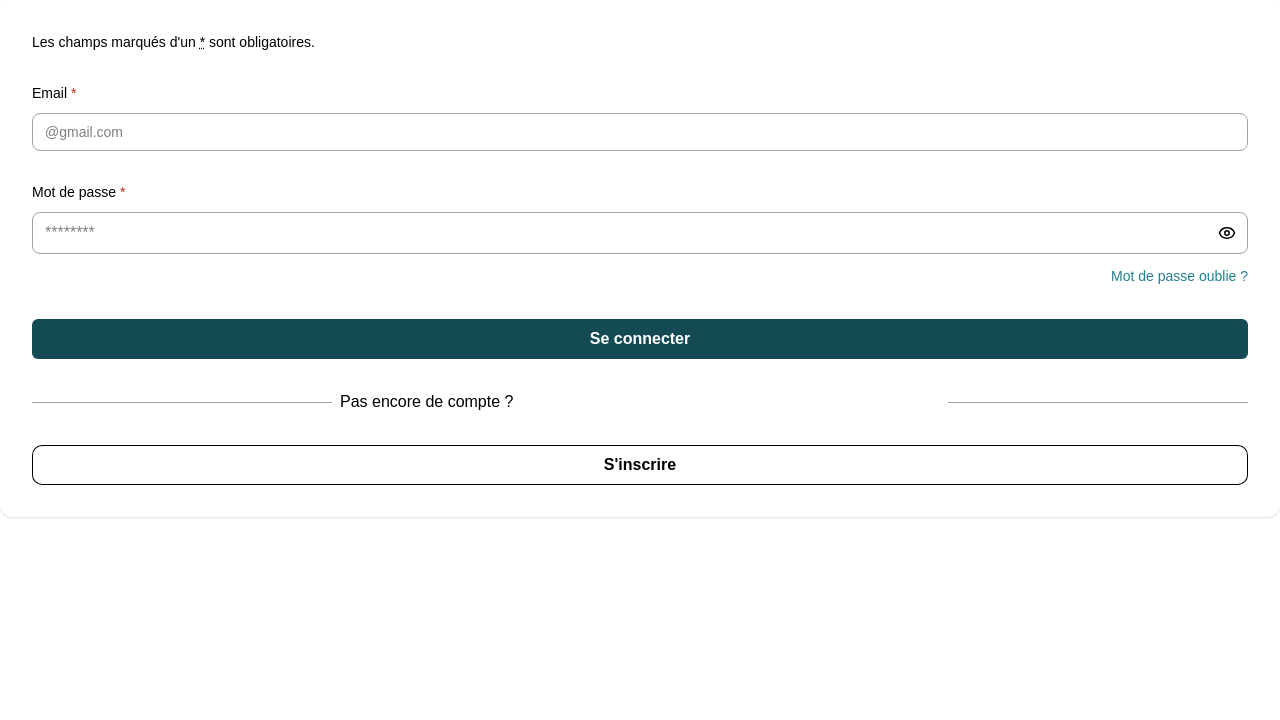
Test: LoginForm › affiche les erreurs de validation cote client
Step 1. Click the button "Se connecter" → x=640, y=339, box left=32, top=319, right=1248, bottom=359
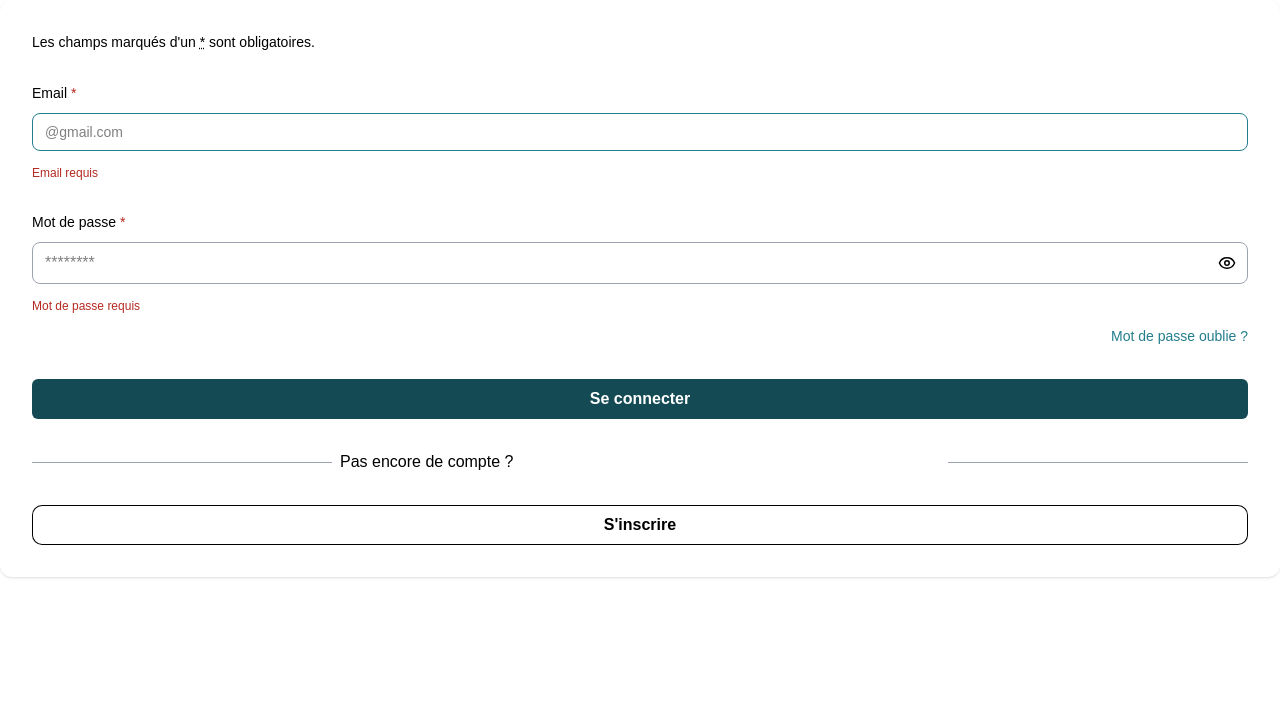
Expected: the text "Email requis" is shown, left=32, top=166, right=98, bottom=180
Expected: the text "Mot de passe requis" is shown, left=32, top=299, right=140, bottom=313
